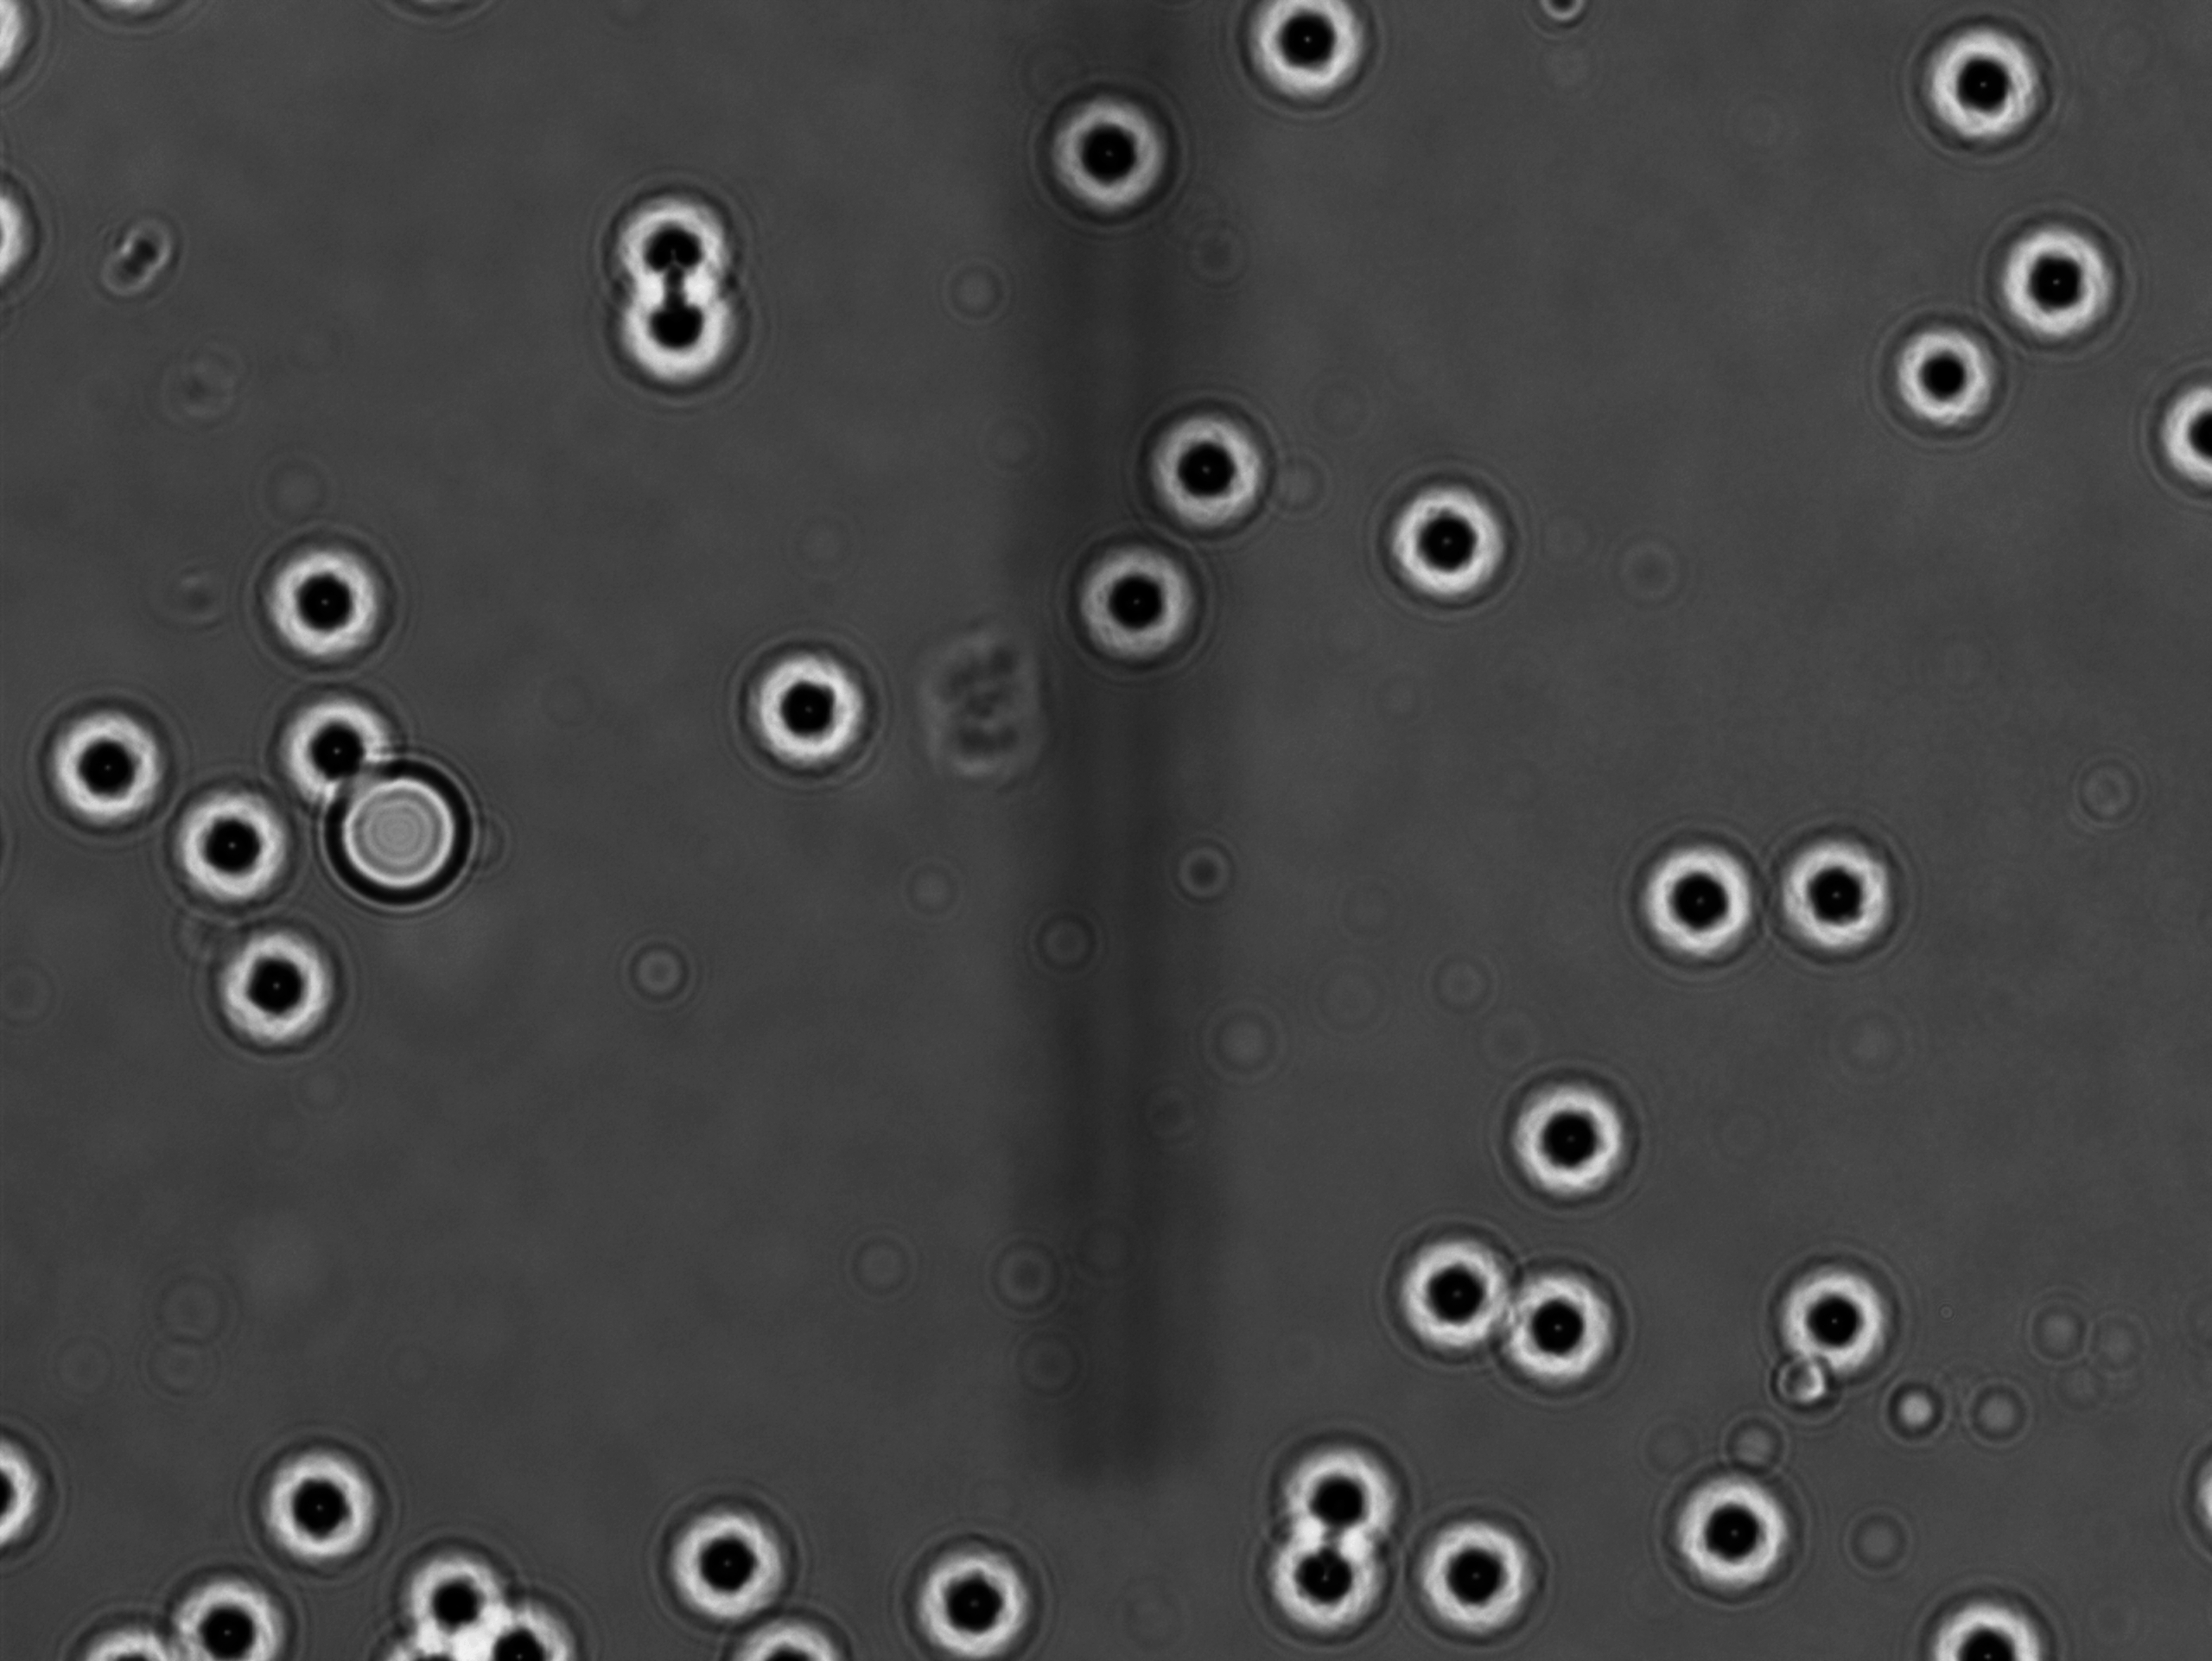depth:-20: (1361, 1192, 1542, 1366), (1884, 16, 2071, 174), (1376, 450, 1540, 625), (232, 1424, 410, 1584), (1479, 1049, 1657, 1209), (244, 665, 424, 824), (1970, 206, 2139, 372), (1021, 79, 1195, 237), (1767, 792, 1919, 972), (10, 684, 178, 844), (600, 173, 775, 325), (211, 883, 361, 1059), (1643, 1452, 1807, 1610), (736, 635, 902, 792), (1256, 1410, 1418, 1567), (1129, 379, 1280, 546), (1062, 520, 1212, 689), (1485, 1249, 1643, 1408), (1404, 1500, 1570, 1652), (609, 244, 769, 398), (1631, 817, 1786, 974), (876, 1535, 1069, 1661), (1872, 298, 2015, 461), (260, 530, 413, 680), (1757, 1239, 1910, 1389), (649, 1488, 811, 1628), (154, 780, 307, 918), (361, 1532, 536, 1652), (1249, 1509, 1404, 1644), (1900, 1562, 2092, 1661)
